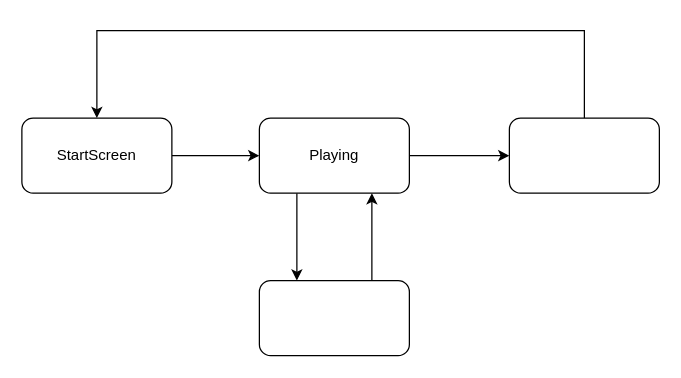
The diagram is 681 pixels wide and 378 high, and some of its shapes have lost their labels. Here are the shapes that lost their labels. From the top down, the centre of each, then its label:
At point (583, 155): "GameOver".
At point (333, 317): "Paused".
